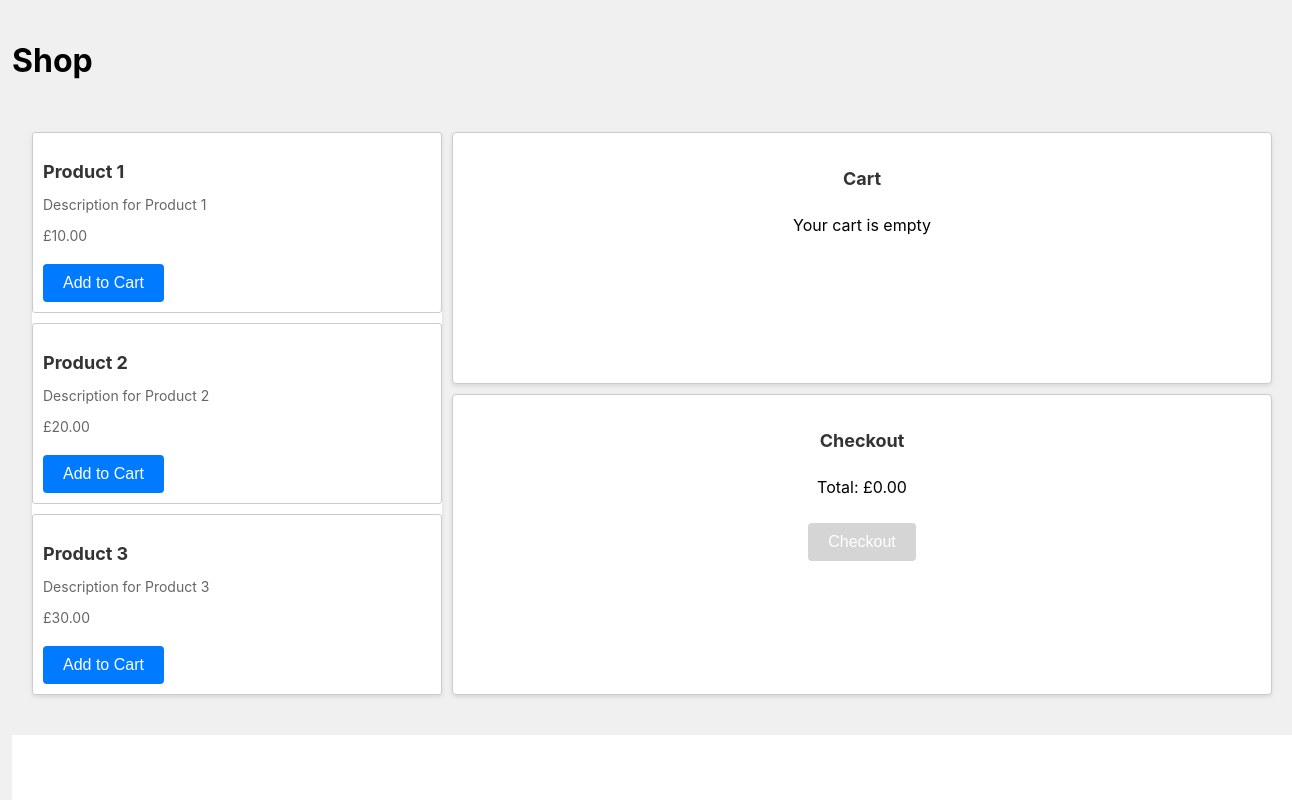
cart remove from cart button works
Expected: the list item with test id "product-item" shows "Product 1", [43,161,124,182]
// Click the add to cart button
Click the button "Add to Cart" below "Description for Product 1" at (103,283), box [43,264,164,302]
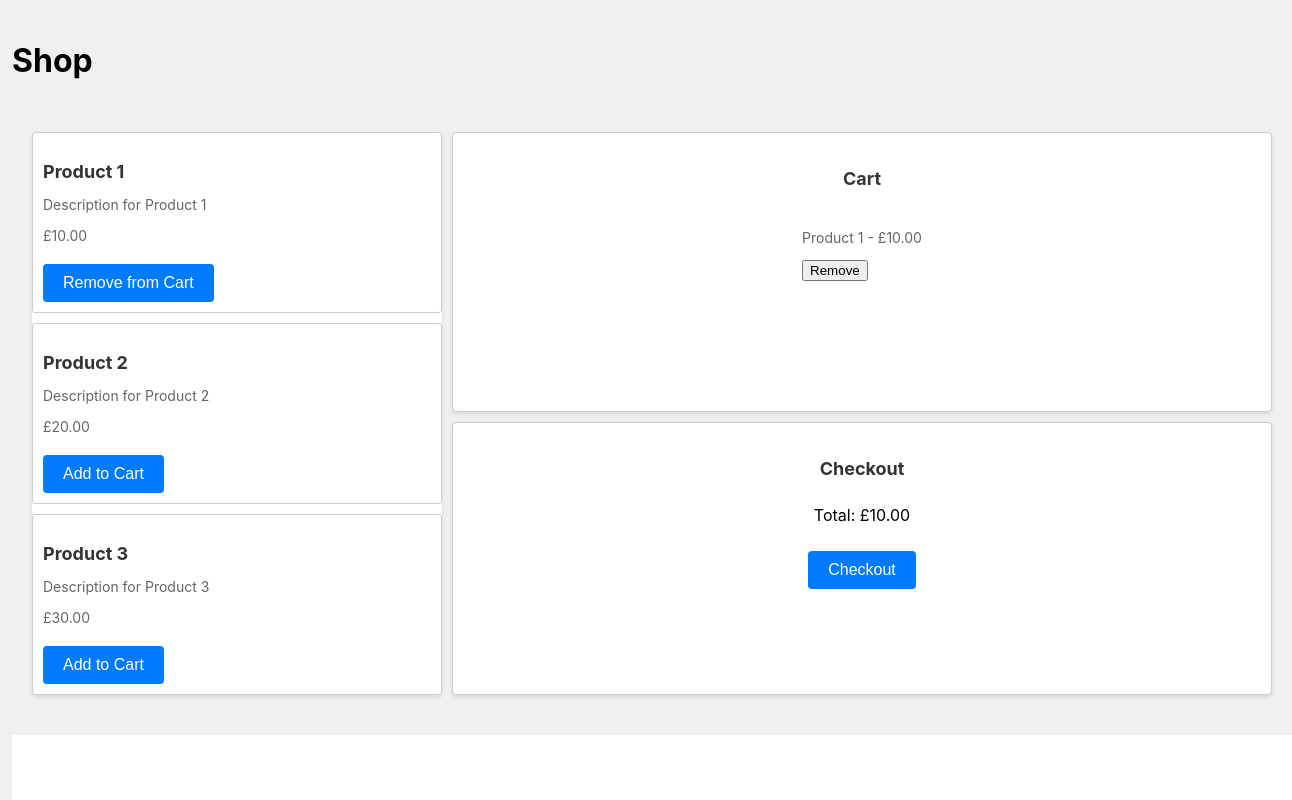
Expected: the list with test id "cart-list" is shown, [802,215,922,291]
Expected: the list item with test id "cart-item-0" is shown, [802,229,922,281]
Expected: the list item with test id "cart-item-0" shows "Product 1", [802,229,864,246]
// Click the remove from cart button
Click the button "Remove" at (835,270), box [802,260,868,281]
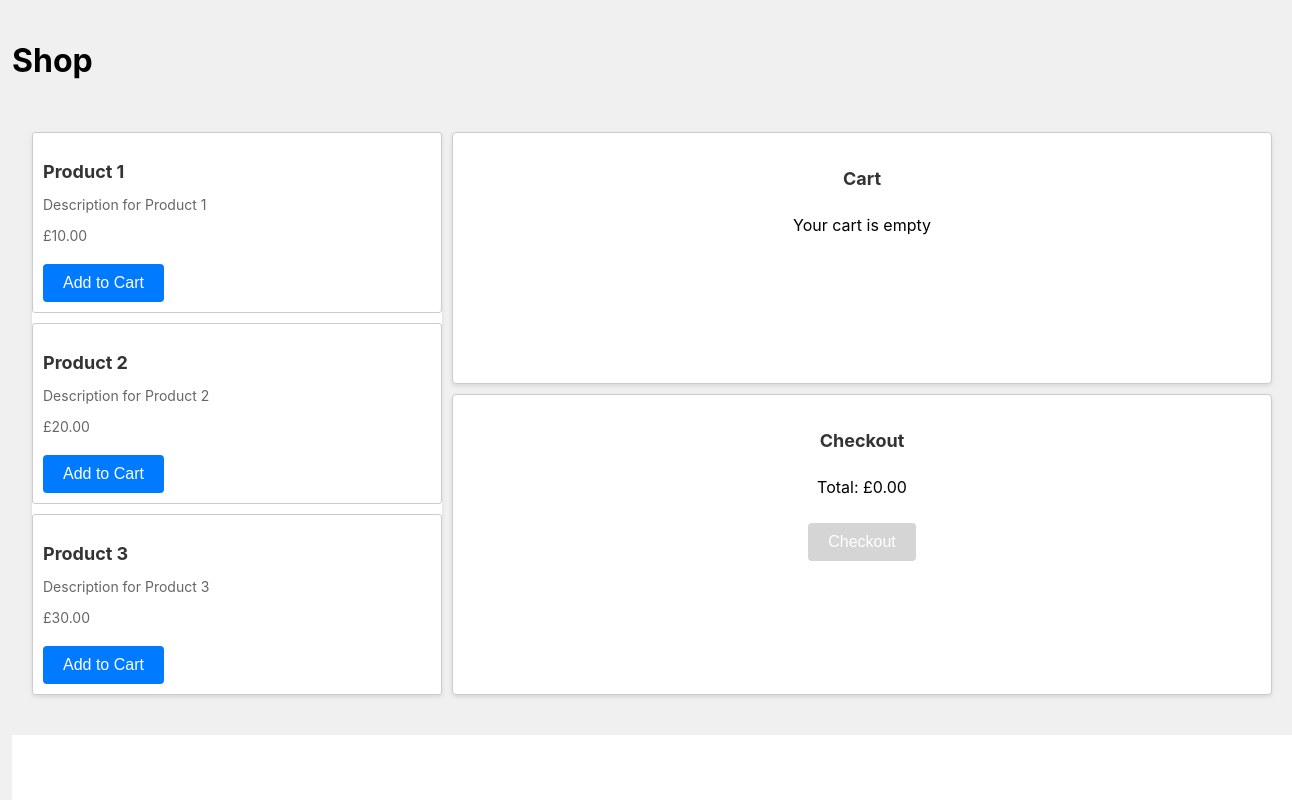
Expected: the list item with test id "cart-item-0" is gone
Expected: the text "Your cart is empty" is shown, [793,215,931,235]
Expected: the list with test id "cart-list" is gone
